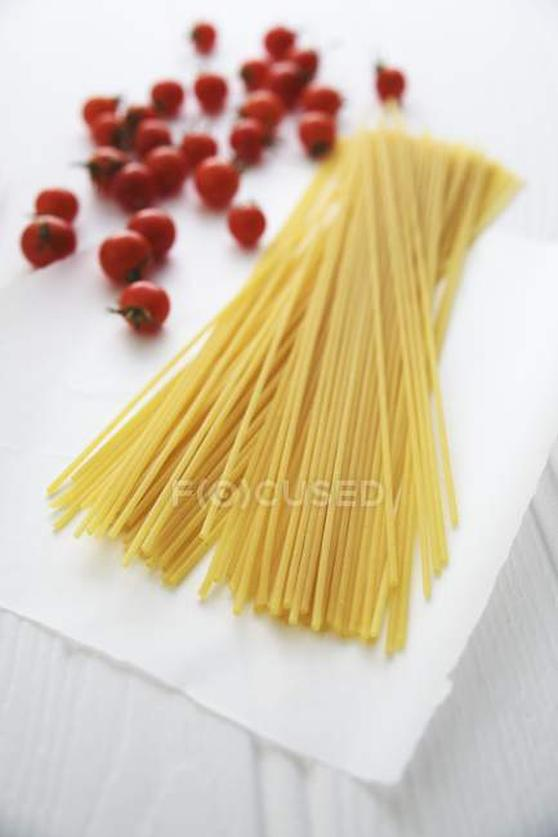spaghetti: (50, 118, 522, 665)
